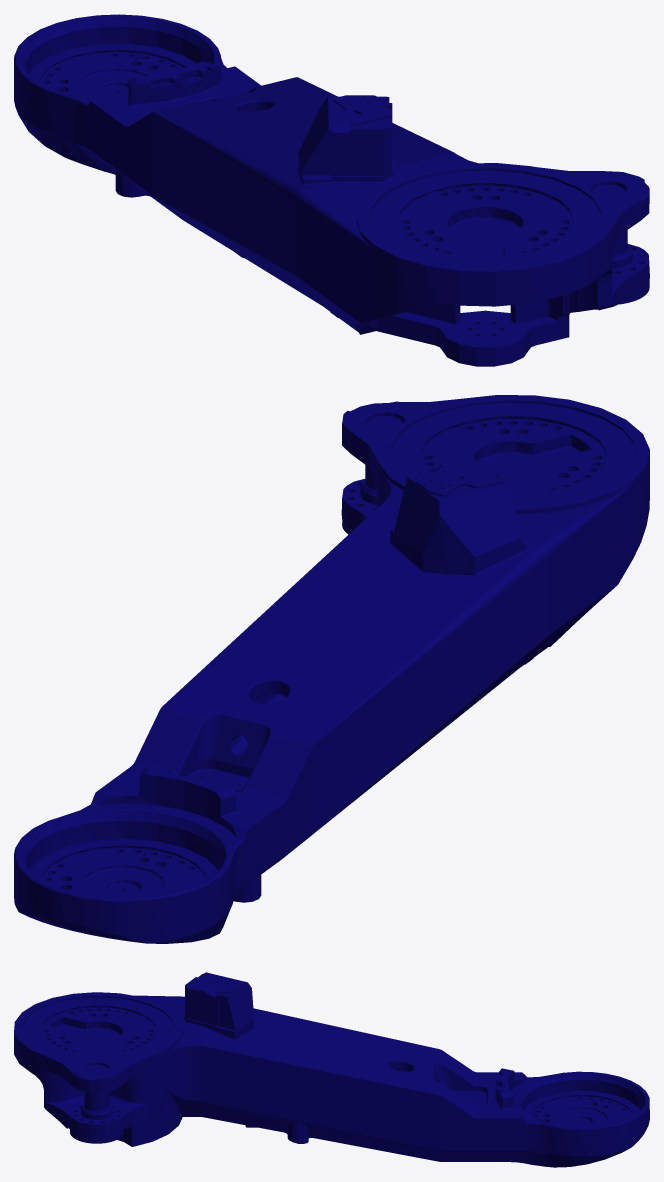
The model's file is L_axis.dae.
3 renders of one model, top to bottom at view 1: azimuth 30°, elevation 25°; view 2: azimuth 150°, elevation 25°; view 3: azimuth 270°, elevation 25°, orthographic. The views are drawn at different scales.
Parts seen in each view (by area): view 1: ES165D Laxis; view 2: ES165D Laxis; view 3: ES165D Laxis.
Part boxes in pixels (x1,y1,x2,y2): ES165D Laxis: (14, 14, 649, 366); ES165D Laxis: (14, 395, 649, 943); ES165D Laxis: (14, 972, 649, 1167).
Bounding box in the file's own units: 0.487 × 1.51 × 0.406.
